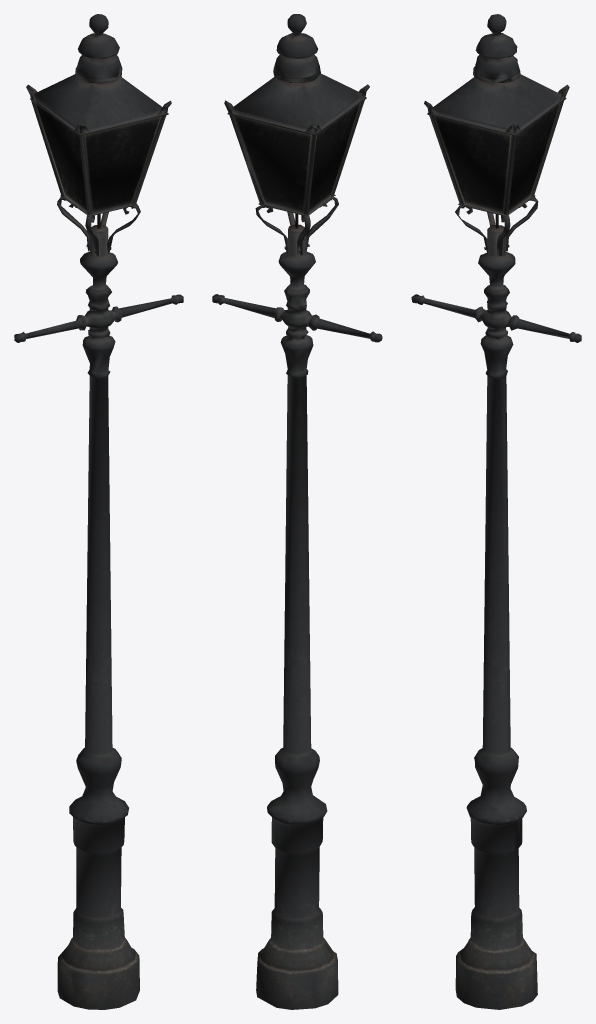
The model's file is street_lamp_01.glb.
The picture shows the model from 3 angles, left to right: view 1: azimuth 30°, elevation 25°; view 2: azimuth 150°, elevation 25°; view 3: azimuth 330°, elevation 25°; orthographic projection.
Parts seen in each view (by area): view 1: street_lamp_01_post_mesh, street_lamp_01; view 2: street_lamp_01_post_mesh, street_lamp_01; view 3: street_lamp_01_post_mesh, street_lamp_01.
Boxes of the visible parts, x1,y1,x2,y2 form: street_lamp_01_post_mesh: (14, 14, 183, 1009); street_lamp_01: (35, 103, 161, 213); street_lamp_01_post_mesh: (212, 14, 382, 1009); street_lamp_01: (234, 103, 360, 213); street_lamp_01_post_mesh: (411, 14, 581, 1009); street_lamp_01: (434, 104, 559, 213).
Size of the model in its own units: 0.7024 by 3.87 by 0.3862.
3 materials, 3 textured.
